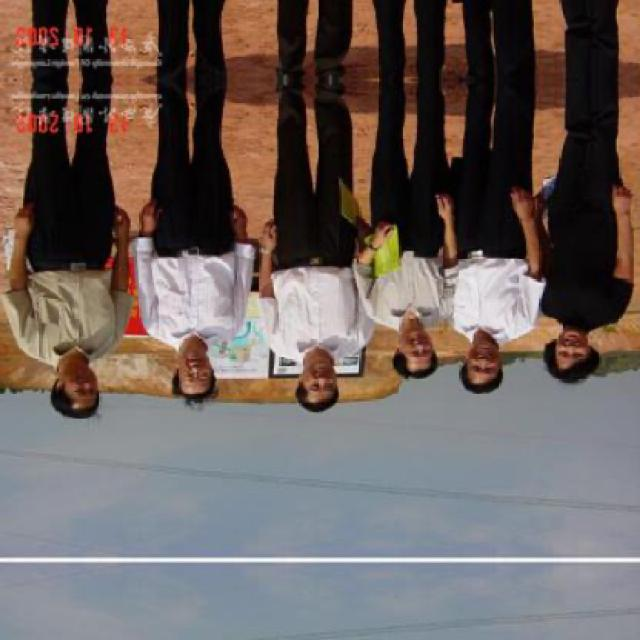sin casco: (165, 332, 232, 434), (40, 352, 112, 441), (283, 338, 347, 422), (542, 312, 607, 393), (396, 308, 443, 389), (468, 326, 516, 405)
